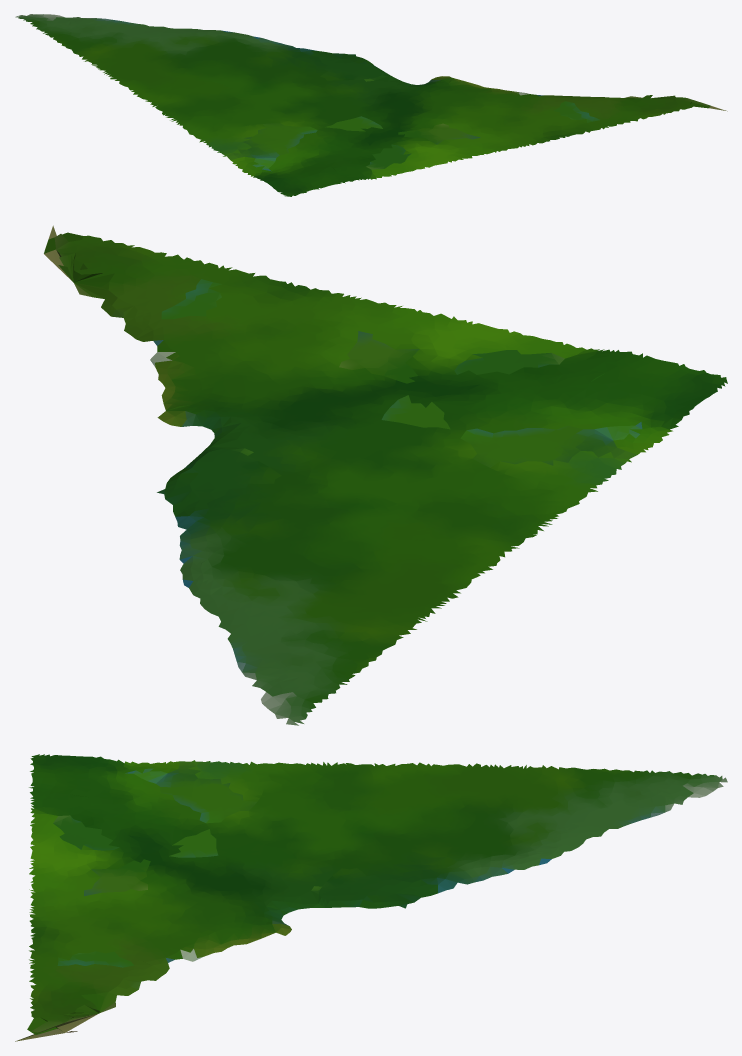
File: chunk_3_0_LOD0.glb
3 renders of one model, top to bottom at view 1: azimuth 30°, elevation 25°; view 2: azimuth 150°, elevation 25°; view 3: azimuth 270°, elevation 25°, orthographic. The views are drawn at different scales.
Parts seen in each view (by area): view 1: world; view 2: world; view 3: world.
Part boxes in pixels (left/top/right/bottom): world: left=15, top=14, right=727, bottom=196; world: left=44, top=225, right=727, bottom=725; world: left=15, top=754, right=727, bottom=1041.
Bounding box in the file's own units: 81.58 × 3.59 × 90.49.
1 material, 1 textured.
